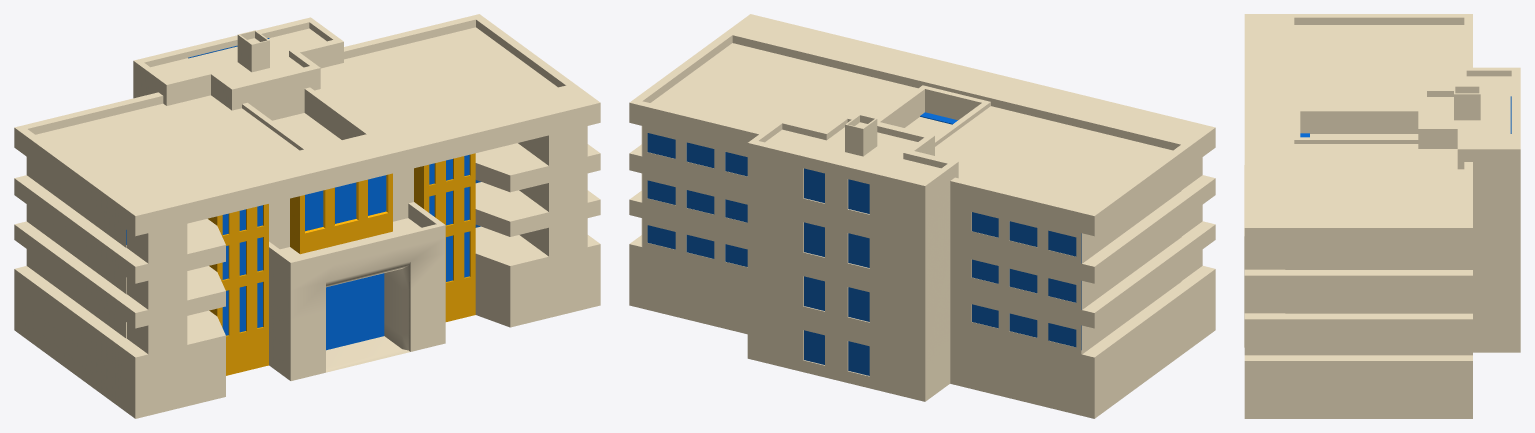
Rendered from 제1학술관.fbx.
3 views of the same model, side by side, from view 1: azimuth 30°, elevation 25°; view 2: azimuth 150°, elevation 25°; view 3: azimuth 270°, elevation 25° (orthographic). The views are drawn at different scales.
Parts seen in each view (by area): view 1: Cube_6, Cube_1, Cube_10, Cube_112, Cube_111, Cube_110, Cube_109, Cube_14; view 2: Cube_6, Cube_10, Cube_1, Cube_7, Cube_8, Cube_9, Cube_14; view 3: Cube_6, Cube_10, Cube_1, Cube_14.
Boxes of the visible parts, x1,y1,x2,y2 form: Cube_6: (14,14,600,418); Cube_1: (134,18,343,120); Cube_10: (133,17,341,104); Cube_112: (326,273,384,350); Cube_111: (305,175,386,231); Cube_110: (222,205,262,335); Cube_109: (429,155,469,281); Cube_14: (237,30,269,72); Cube_6: (629,14,1215,418); Cube_10: (747,116,957,401); Cube_1: (749,114,958,400); Cube_7: (804,168,869,375); Cube_8: (972,212,1081,349); Cube_9: (647,133,747,266); Cube_14: (845,114,877,156); Cube_6: (1244,14,1472,418); Cube_10: (1420,67,1520,352); Cube_1: (1418,67,1518,352); Cube_14: (1454,86,1480,120).
Size of the model in its own units: 563 by 279 by 307.
